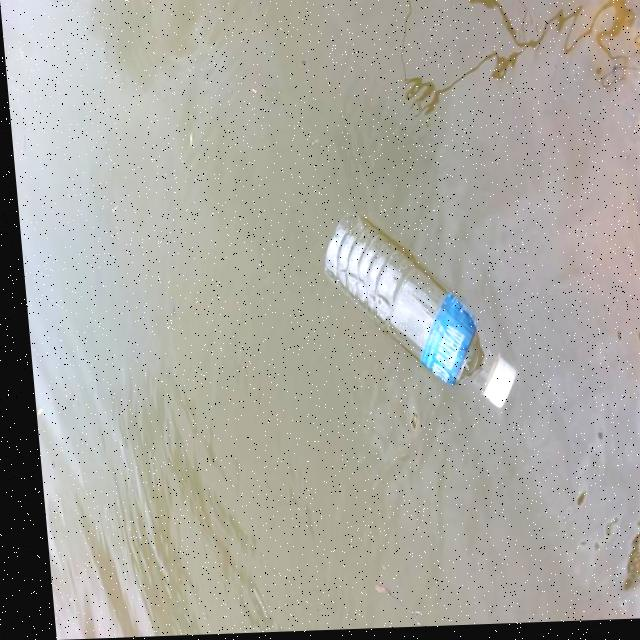waterbottle: (296, 209, 517, 419)
